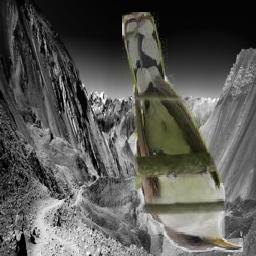Cuckoo: (123, 12, 244, 252)
